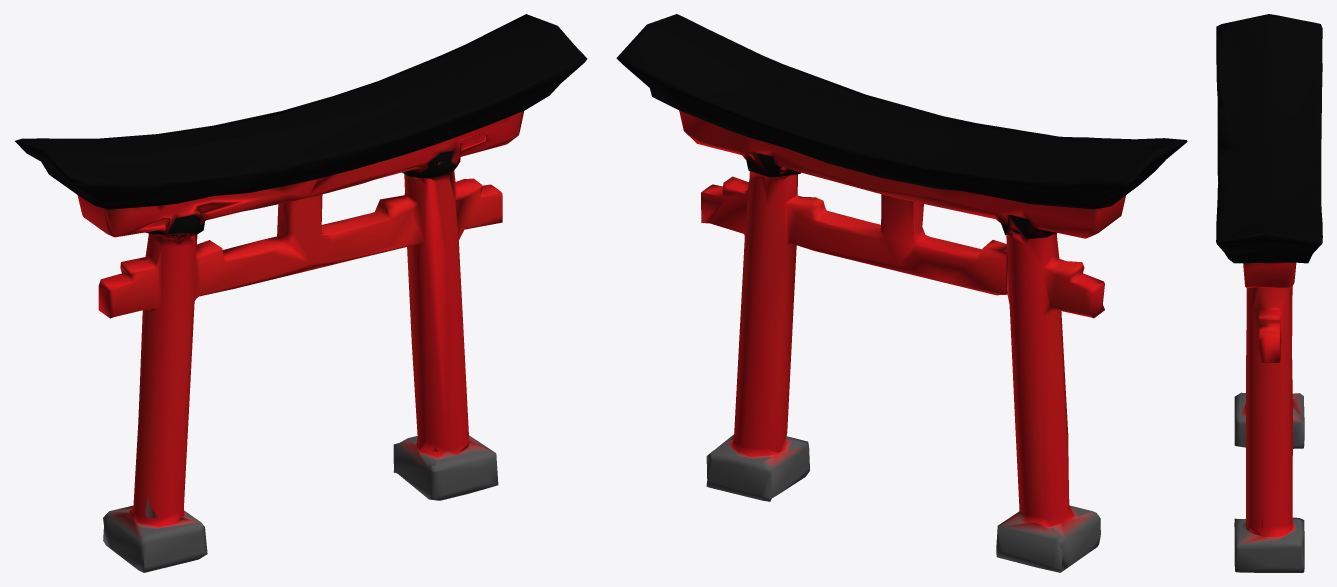
The model's file is gen3d-torii-gate-lod0.glb.
3 views of the same model, side by side, from view 1: azimuth 30°, elevation 25°; view 2: azimuth 150°, elevation 25°; view 3: azimuth 270°, elevation 25° (orthographic). The views are drawn at different scales.
Visible parts, largest first — view 1: part_0; view 2: part_0; view 3: part_0.
Part boxes in pixels (bbox=[...]): part_0: bbox=[15, 14, 587, 572]; part_0: bbox=[616, 14, 1187, 572]; part_0: bbox=[1216, 14, 1322, 572].
Size of the model in its own units: 1.25 by 1 by 0.2582.
